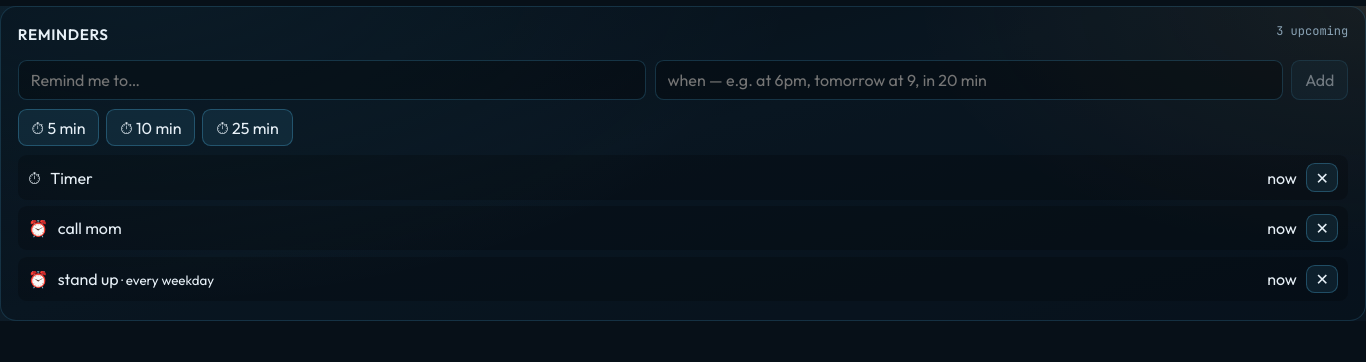
Test: RemindersPanel › starts quick timers and cancels reminders
Click the button "⏱ 5 min": {"x": 58, "y": 128} top-left (18, 109), bottom-right (99, 146)
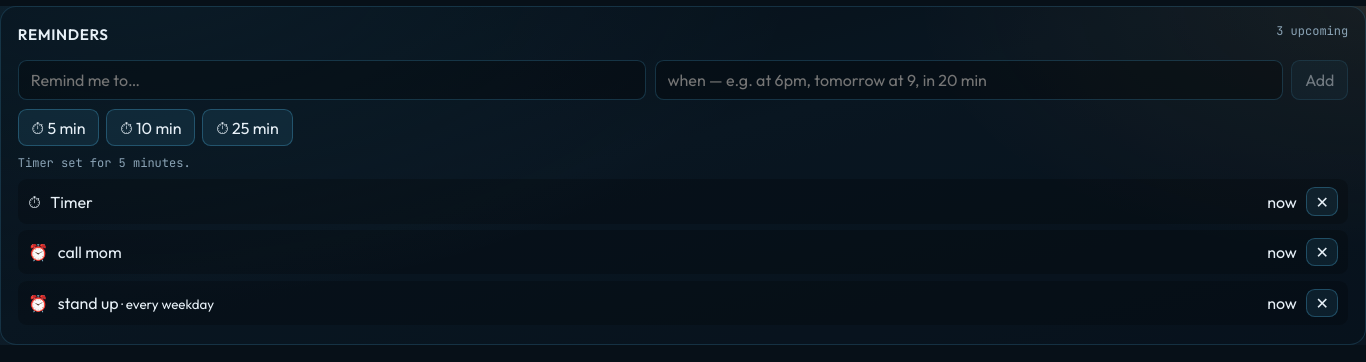
expect the text "Timer set for 5 minutes." is shown: met, box top-left (18, 155), bottom-right (191, 171)
Click the button named "Cancel call mom": {"x": 1322, "y": 252} top-left (1306, 238), bottom-right (1338, 266)
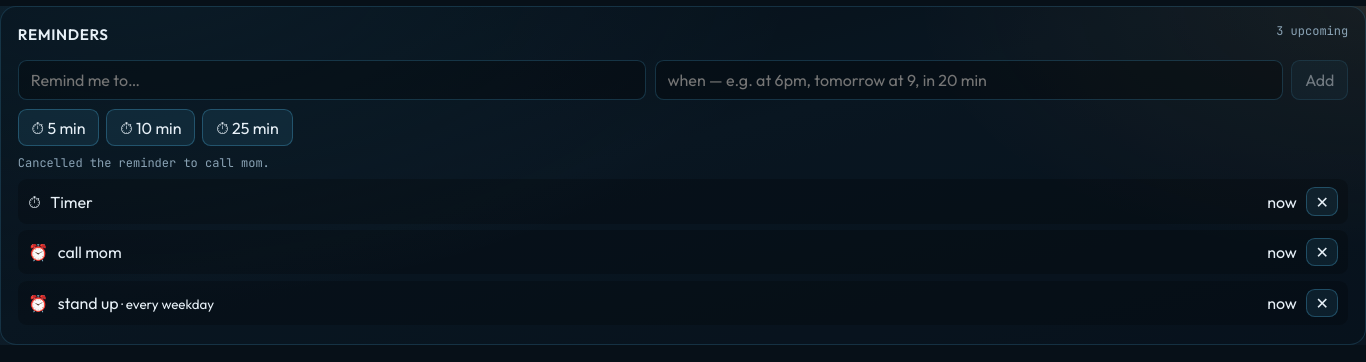
expect the message shows "Cancelled": met, box top-left (18, 155), bottom-right (270, 171)
